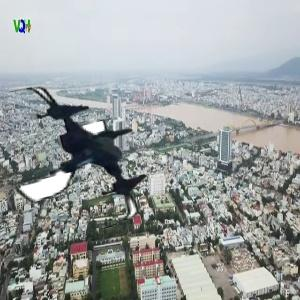drone: (1, 77, 160, 236)
